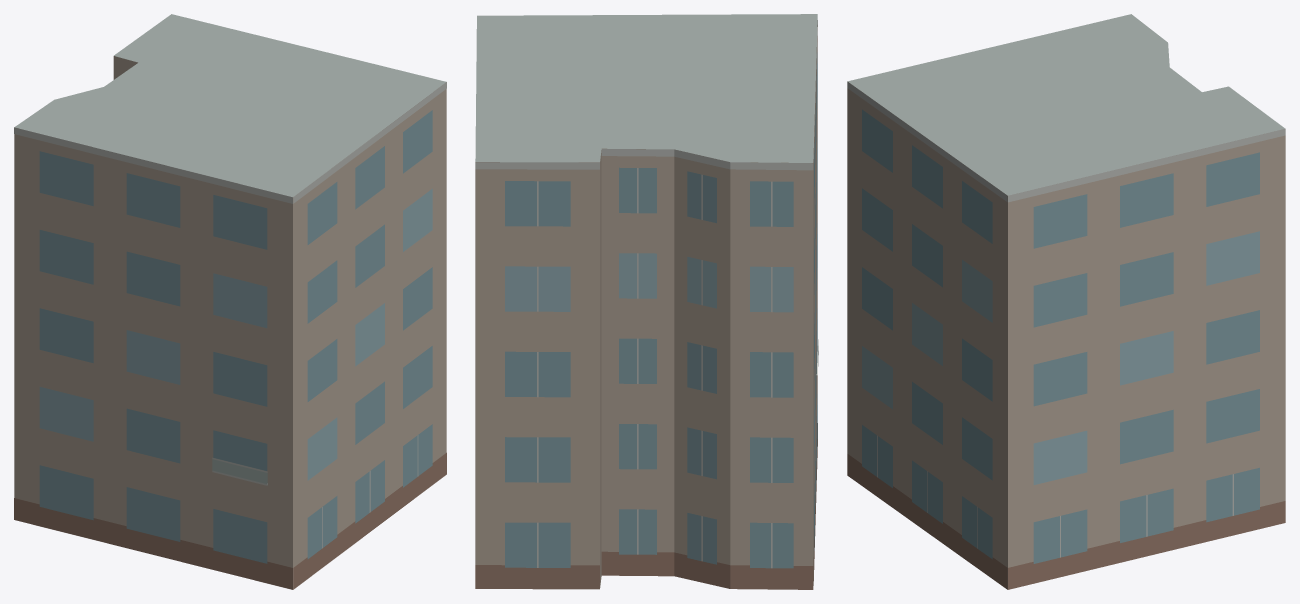
File: survey-upis-32879110.glb
3 renders of one model, left to right at view 1: azimuth 30°, elevation 25°; view 2: azimuth 150°, elevation 25°; view 3: azimuth 270°, elevation 25°, orthographic. The views are drawn at different scales.
Visible parts, largest first — view 1: survey-upis-32879110.tmp; view 2: survey-upis-32879110.tmp; view 3: survey-upis-32879110.tmp.
Part boxes in pixels (left/top/right/bottom): survey-upis-32879110.tmp: left=14, top=14, right=446, bottom=589; survey-upis-32879110.tmp: left=475, top=14, right=818, bottom=589; survey-upis-32879110.tmp: left=847, top=14, right=1285, bottom=589.
Size of the model in its own units: 14.15 by 14.3 by 14.42.
